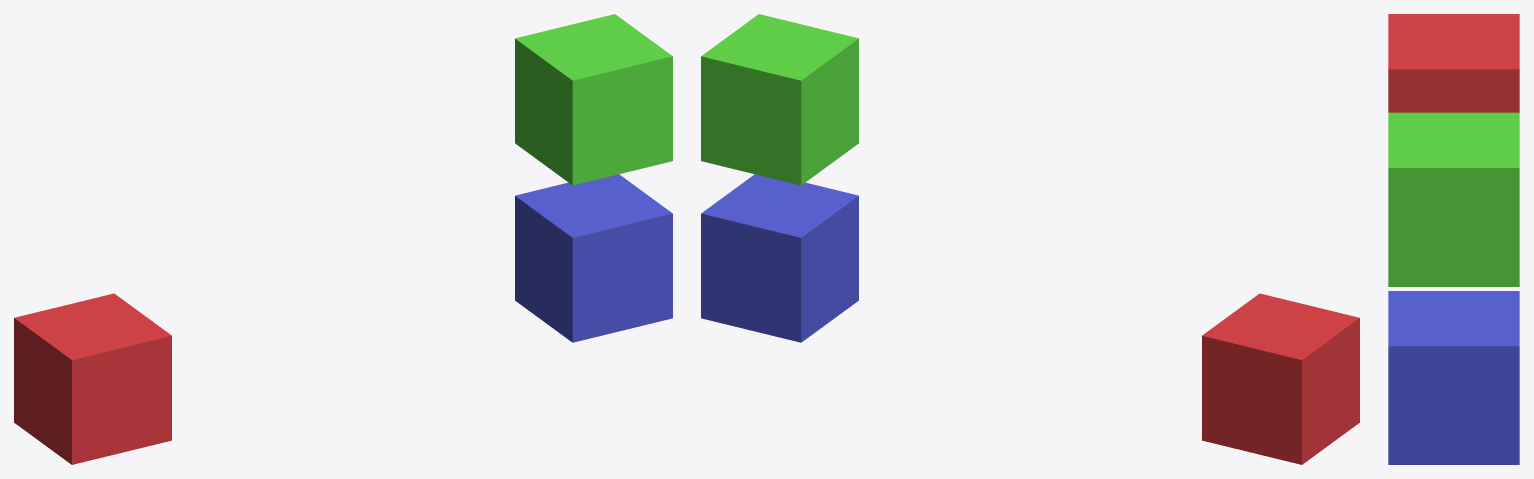
The model's file is cubeanimated.fbx.
3 renders of one model, left to right at view 1: azimuth 30°, elevation 25°; view 2: azimuth 150°, elevation 25°; view 3: azimuth 270°, elevation 25°, orthographic. The views are drawn at different scales.
Parts seen in each view (by area): view 1: Red, Green, Blue; view 2: Red, Green, Blue; view 3: Green, Blue, Red.
Part boxes in pixels (box(x1,y1,x2,y2)): Red: box(14, 293, 171, 464); Green: box(515, 14, 672, 185); Blue: box(515, 174, 672, 342); Red: box(1202, 293, 1359, 464); Green: box(701, 14, 858, 185); Blue: box(701, 174, 858, 342); Green: box(1388, 112, 1519, 286); Blue: box(1388, 291, 1519, 464); Red: box(1388, 14, 1519, 112).
Size of the model in its own units: 60 by 25 by 10.
